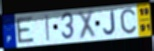3: (59, 11, 76, 42)
C: (119, 7, 138, 35)
E: (15, 16, 36, 45)
I: (44, 14, 51, 43)
J: (103, 9, 117, 37)
X: (77, 9, 97, 41)
